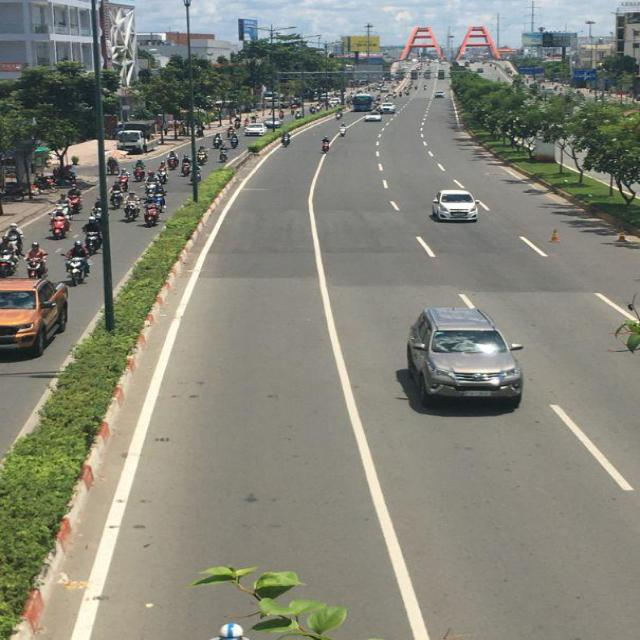bus: (354, 93, 376, 112)
car: (399, 303, 525, 413), (1, 278, 70, 361), (430, 188, 480, 222), (246, 123, 266, 137), (364, 115, 382, 125), (380, 102, 394, 114)
motorcycle: (65, 244, 91, 285), (230, 132, 238, 148), (320, 136, 328, 152)
